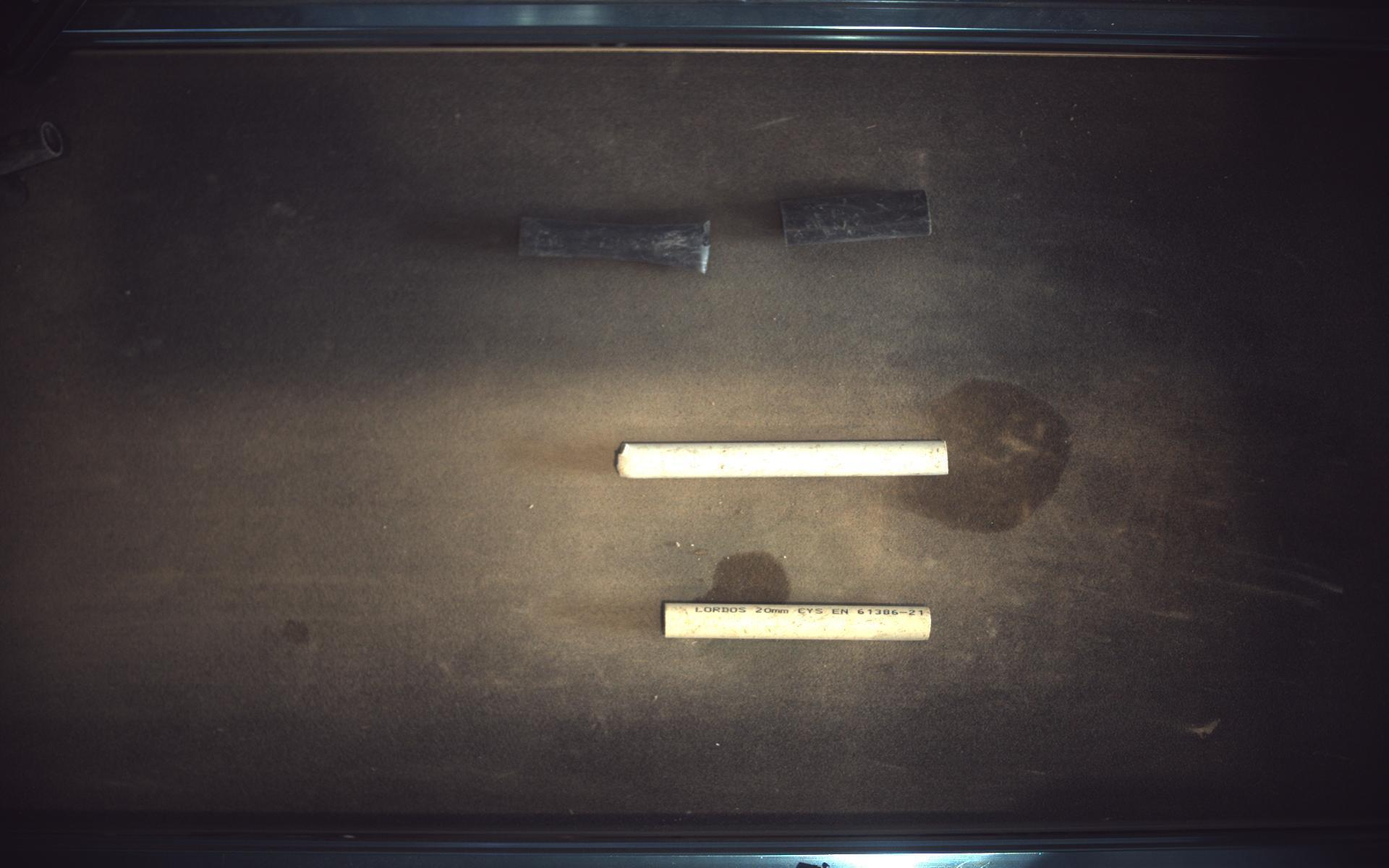pipes: (617, 440, 949, 479), (519, 217, 710, 273), (665, 603, 933, 642), (782, 191, 933, 245)
